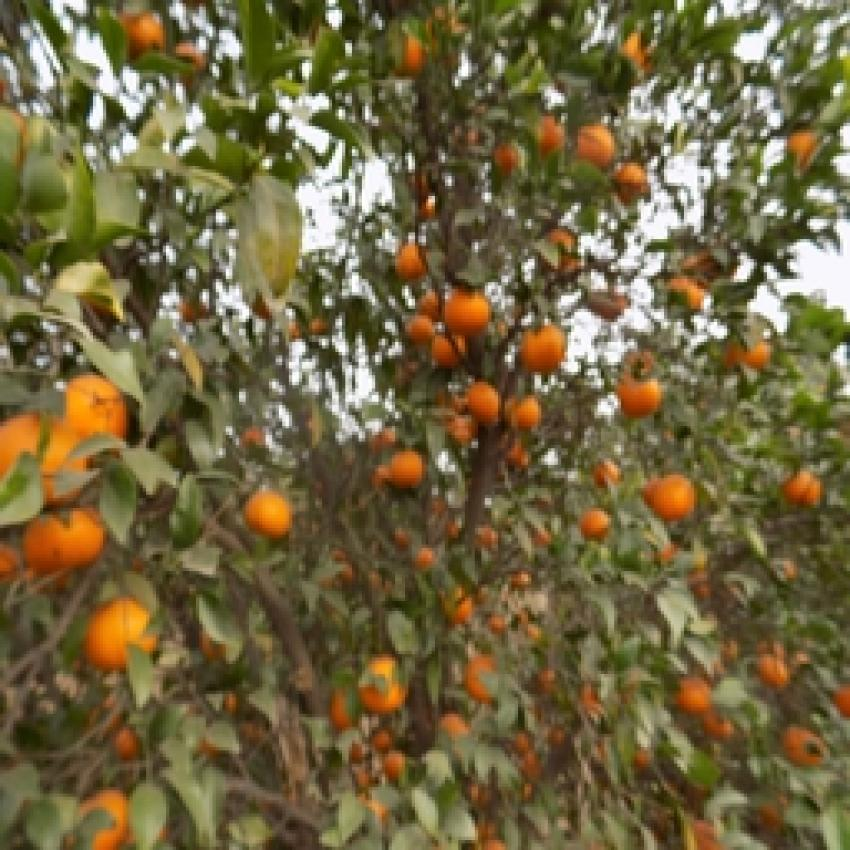Buen estado: (0, 409, 103, 519), (39, 364, 146, 455), (76, 587, 170, 674), (24, 508, 112, 574), (231, 488, 294, 546), (616, 369, 673, 429), (653, 467, 708, 523), (444, 290, 498, 344), (520, 319, 570, 375), (466, 375, 505, 440), (500, 388, 550, 436), (442, 414, 478, 438)
